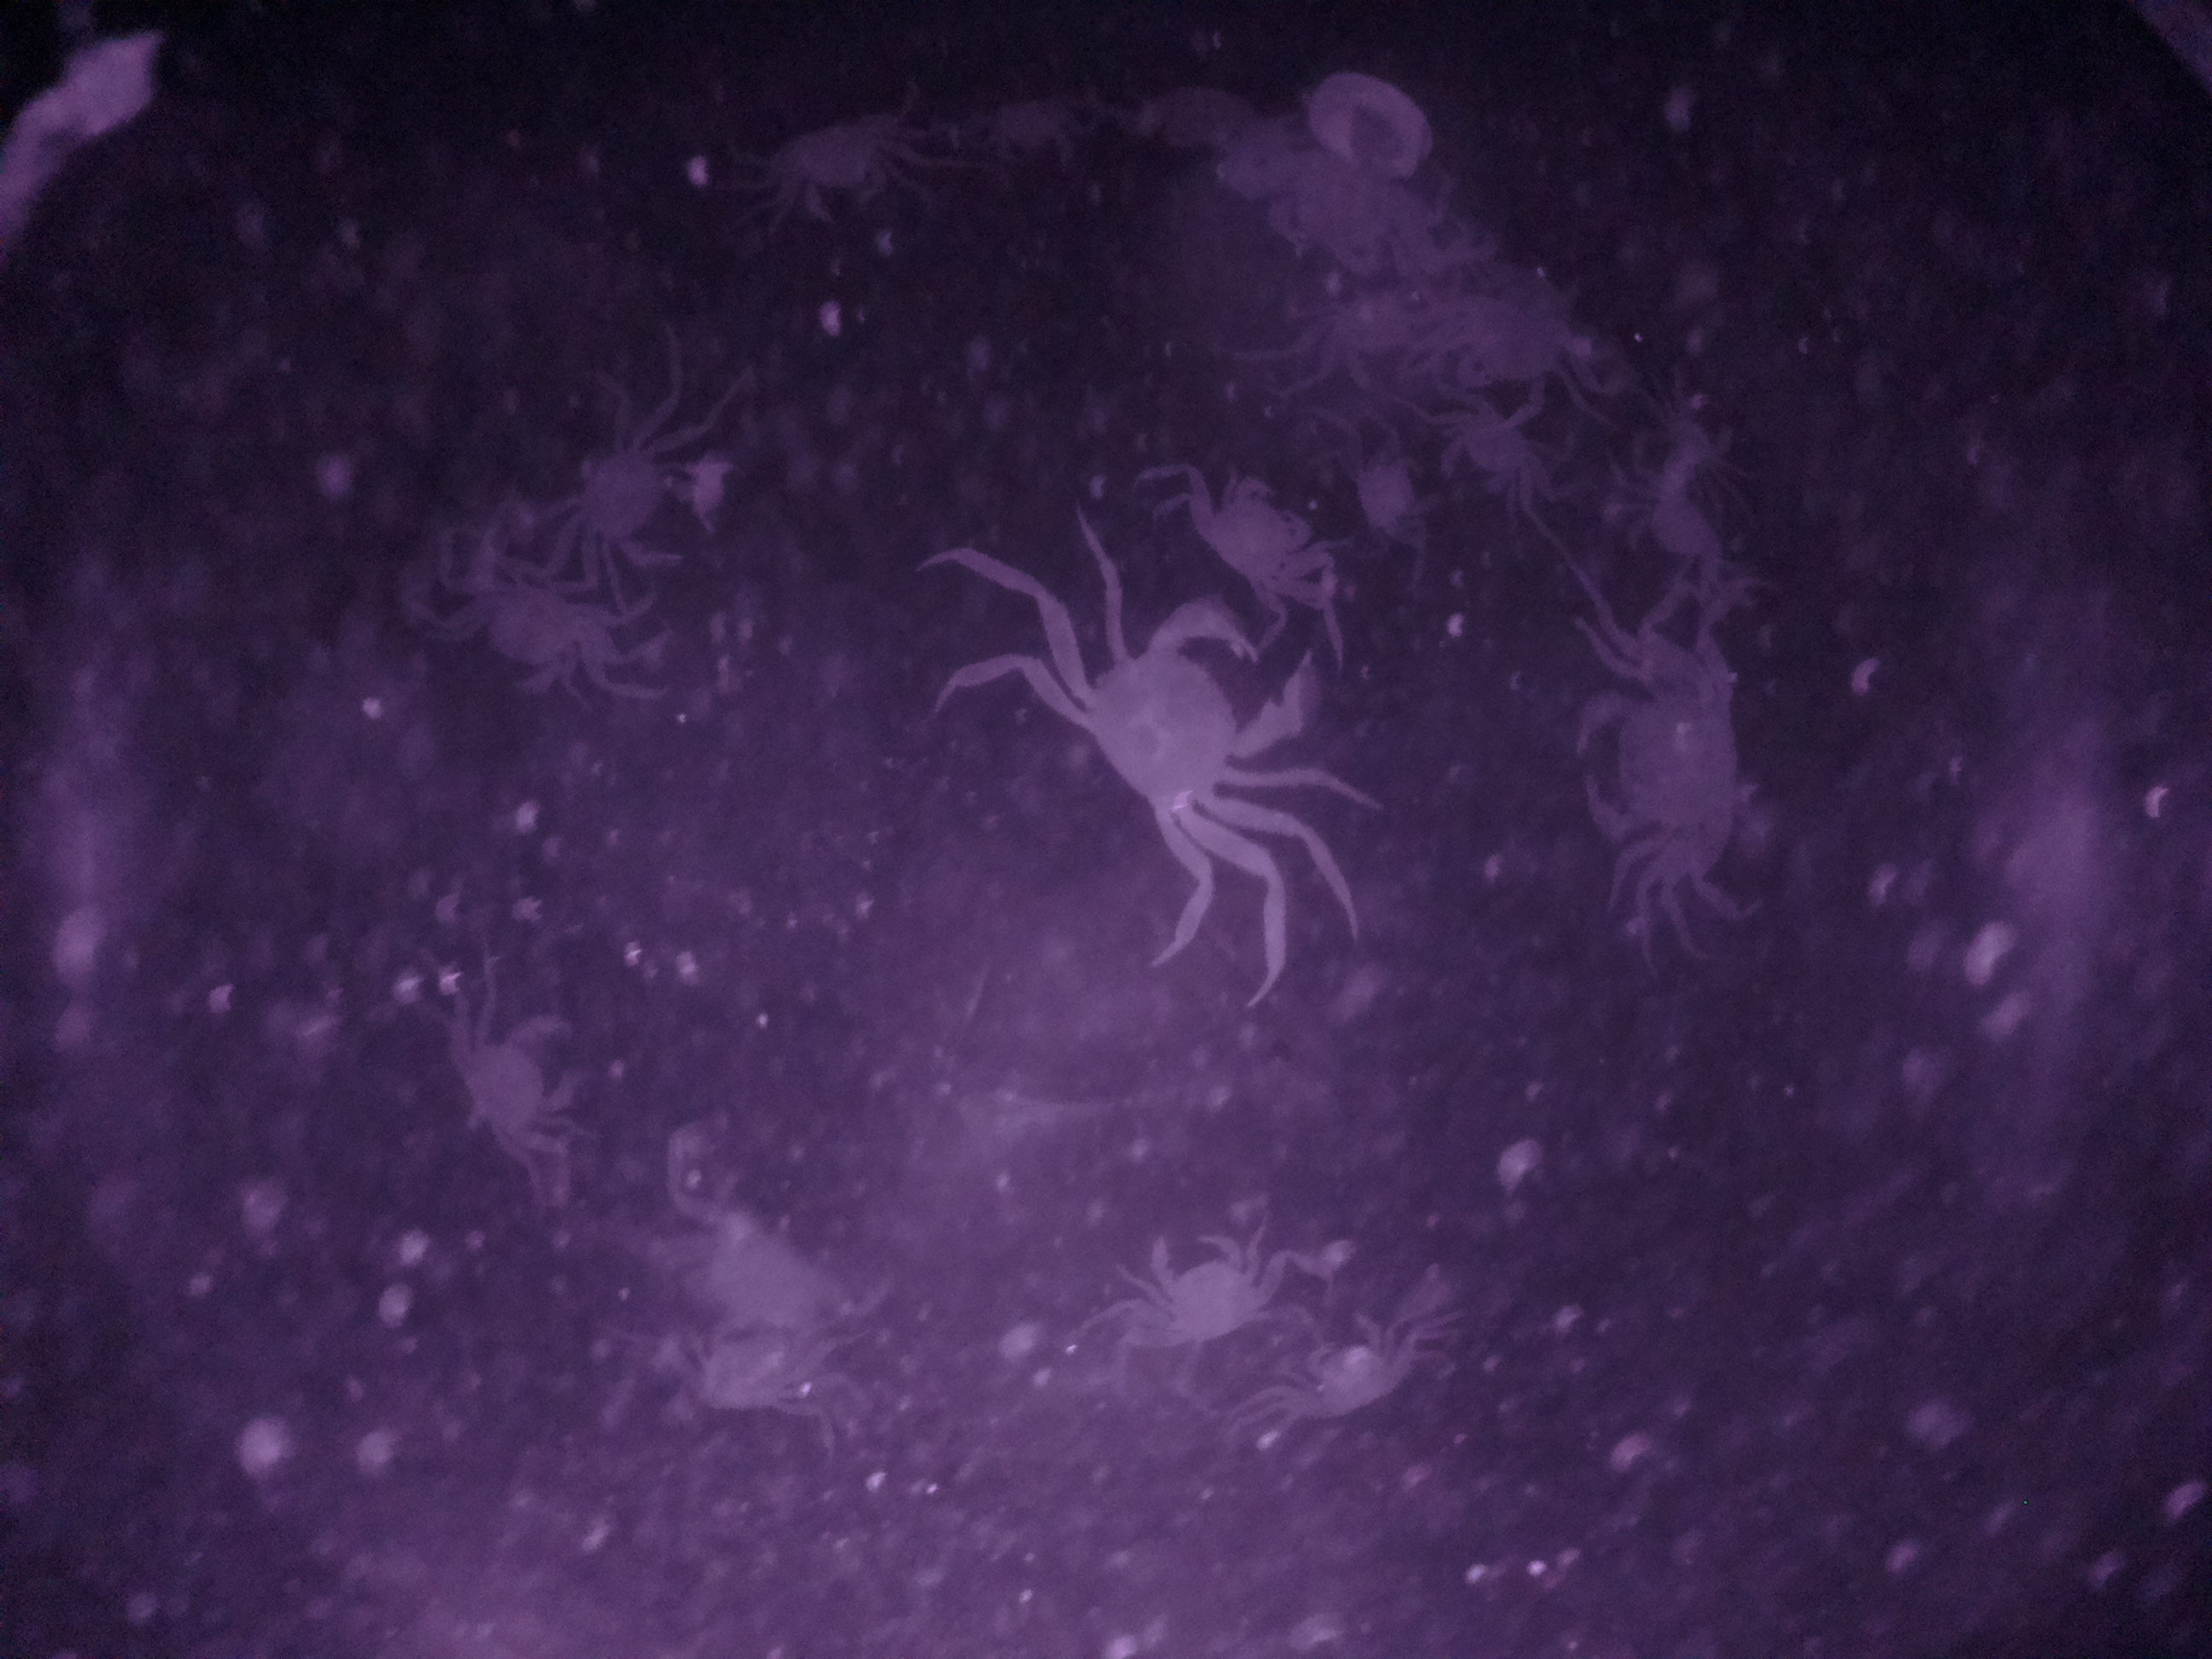Crab: (1047, 594, 1329, 864), (1569, 627, 1766, 897), (559, 420, 730, 594), (439, 1000, 597, 1176), (1163, 451, 1338, 608), (1111, 1215, 1292, 1361), (751, 94, 930, 230), (1280, 1297, 1416, 1445), (1428, 390, 1548, 519)
